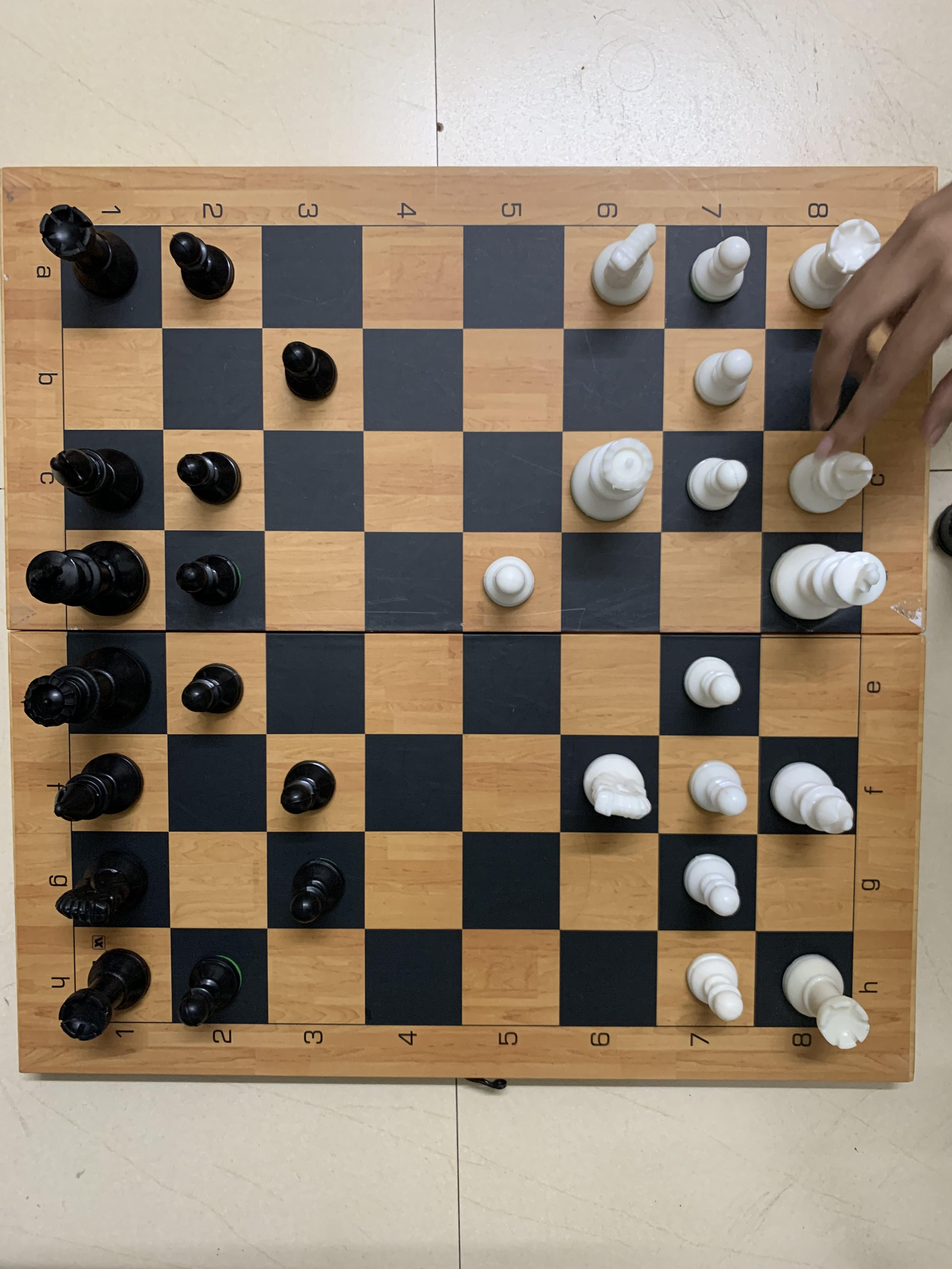black_bishop: (41, 740, 158, 838), (41, 435, 154, 523)
black_king: (22, 516, 156, 634)
black_knight: (35, 831, 171, 944), (42, 930, 43, 932)
black_pawn: (161, 211, 266, 309), (260, 831, 360, 931), (179, 933, 263, 1041), (167, 433, 263, 523), (168, 534, 260, 620), (173, 634, 255, 723), (274, 742, 357, 824), (274, 329, 348, 412)
black_queen: (17, 631, 159, 749)
black_rook: (33, 191, 144, 309), (52, 945, 172, 1045)
white_bishop: (768, 743, 863, 844), (784, 428, 882, 519)
white_king: (771, 529, 896, 630)
white_knight: (573, 217, 669, 314), (570, 738, 660, 833)
white_pawn: (468, 534, 553, 640), (675, 228, 768, 319), (669, 930, 755, 1023), (671, 342, 768, 424), (680, 441, 764, 532), (672, 650, 756, 728), (677, 845, 754, 920), (674, 749, 750, 822)
white_queen: (567, 431, 659, 532)
white_rook: (771, 210, 895, 338), (768, 940, 883, 1056)
